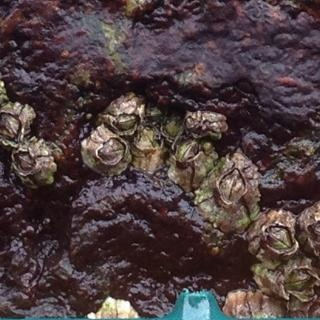Barnacle: (282, 266, 315, 298), (217, 168, 246, 203), (262, 224, 295, 253), (97, 137, 127, 164), (0, 110, 23, 143), (135, 126, 162, 150), (113, 113, 140, 134), (174, 139, 199, 159), (16, 149, 37, 171)
